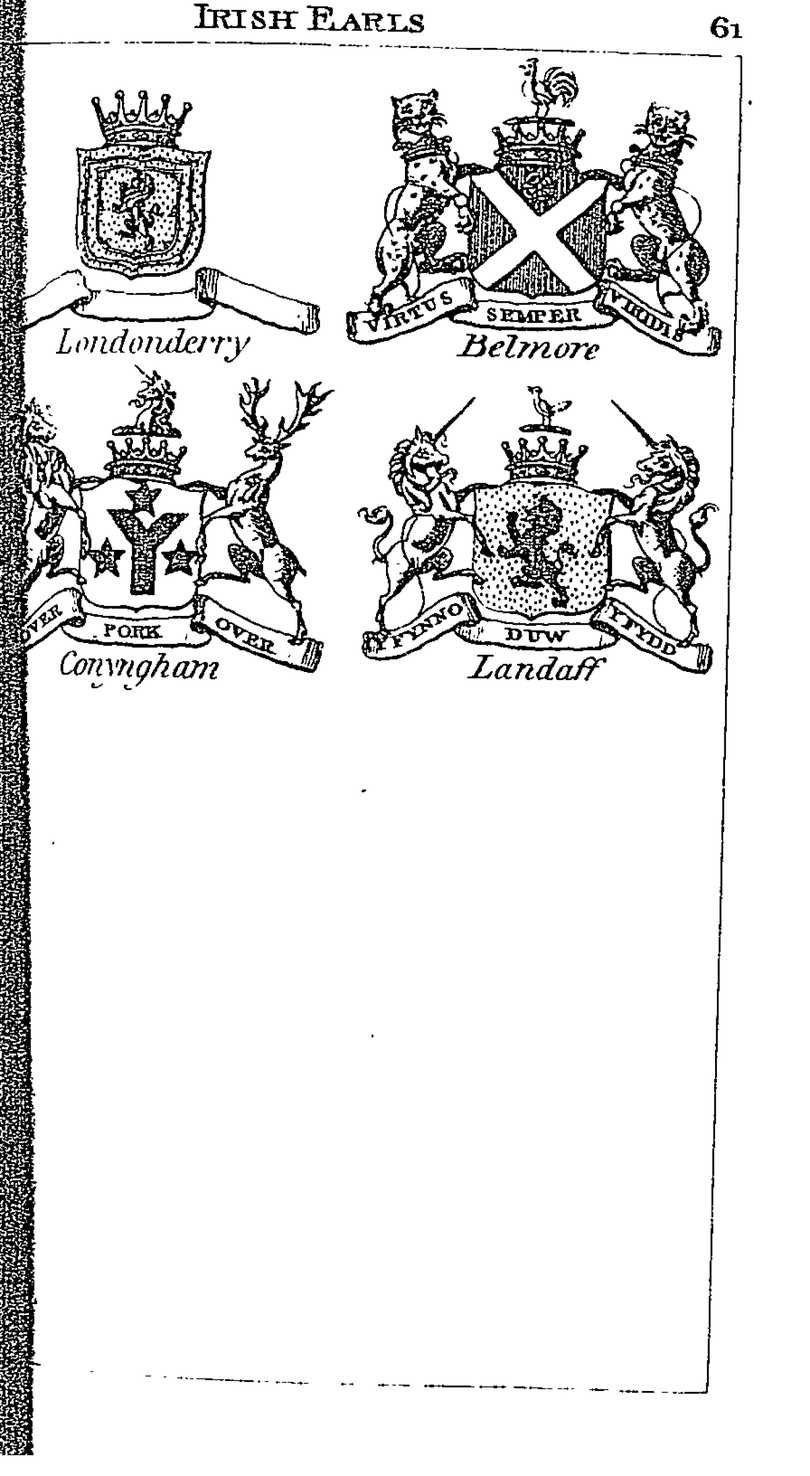coat_of_arms: (347, 54, 736, 372), (352, 373, 715, 705), (21, 367, 347, 699), (23, 50, 325, 372)
